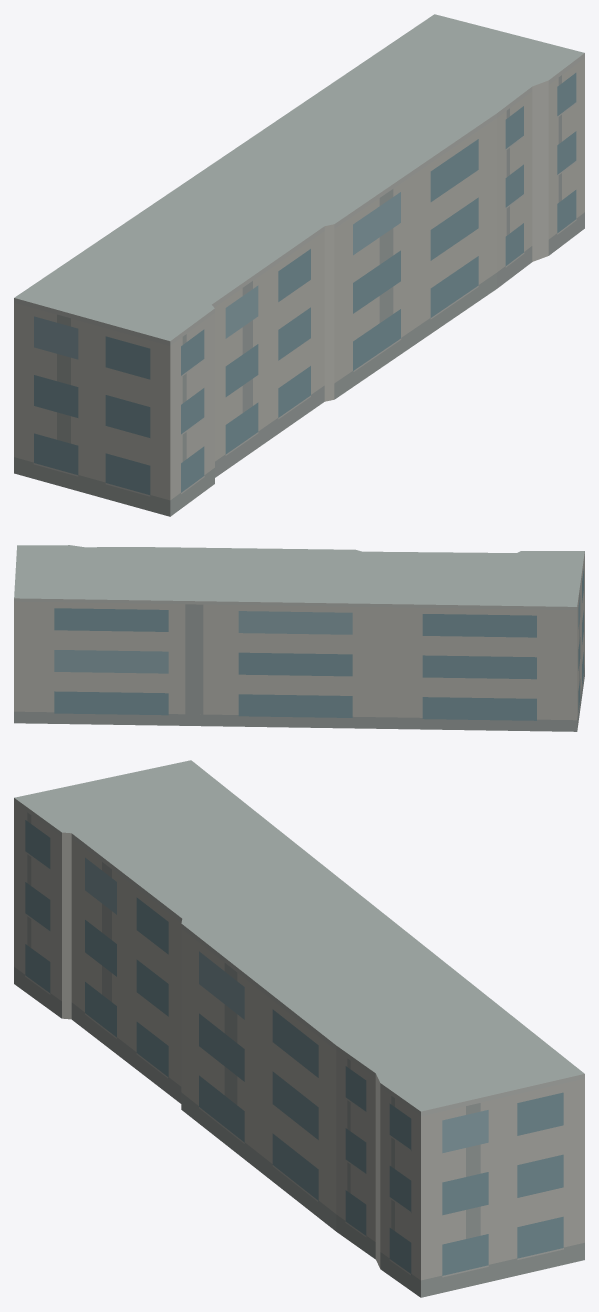
Rendered from survey-upis-33047531.glb.
3 renders of one model, top to bottom at view 1: azimuth 30°, elevation 25°; view 2: azimuth 150°, elevation 25°; view 3: azimuth 270°, elevation 25°, orthographic. The views are drawn at different scales.
Parts seen in each view (by area): view 1: survey-upis-33047531.tmp; view 2: survey-upis-33047531.tmp; view 3: survey-upis-33047531.tmp.
Boxes of the visible parts, bbox=[...] form: survey-upis-33047531.tmp: bbox=[14, 14, 584, 516]; survey-upis-33047531.tmp: bbox=[14, 545, 584, 731]; survey-upis-33047531.tmp: bbox=[14, 760, 584, 1297].
Bounding box in the file's own units: 37.05 × 9.15 × 25.43.
